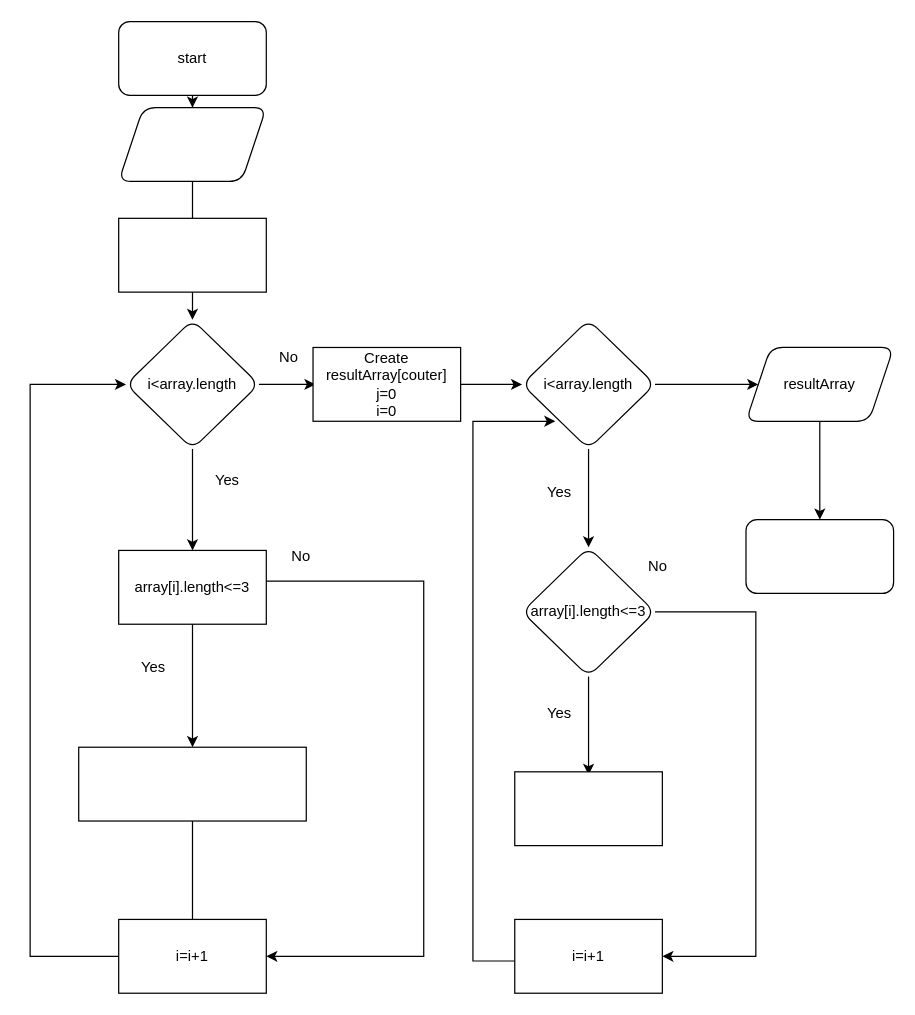
The diagram is 915 pixels wide and 1015 high, and some of its shapes have lost their labels. Here are the shapes that lost their labels. From the top down, the box of each, then its label:
(117, 106, 266, 181): string array
(117, 217, 266, 292): i=0 counter=0
(745, 518, 894, 593): End
(77, 746, 306, 821): counter=counter+1
(514, 771, 662, 846): resultarray[j]=array[i] j=j+1
